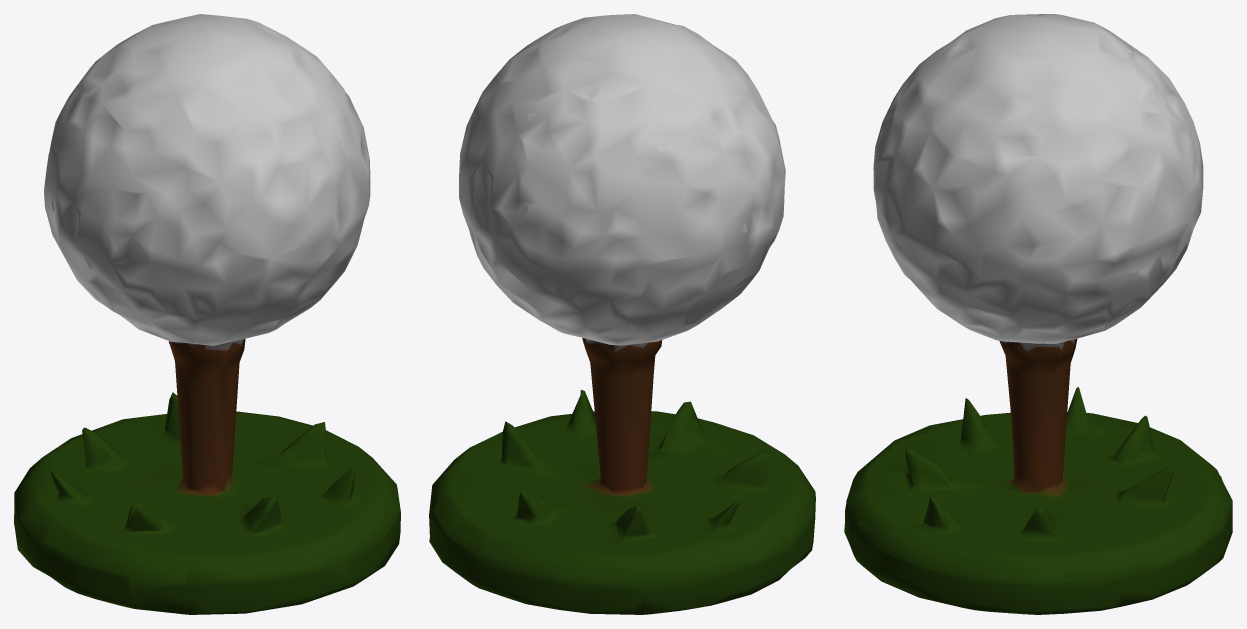
The model's file is gen3d-golf-ball-lod0.glb.
3 views of the same model, side by side, from view 1: azimuth 30°, elevation 25°; view 2: azimuth 150°, elevation 25°; view 3: azimuth 270°, elevation 25° (orthographic).
Visible parts, largest first — view 1: part_0; view 2: part_0; view 3: part_0.
Boxes of the visible parts, bbox=[...] form: part_0: bbox=[14, 14, 400, 614]; part_0: bbox=[429, 14, 815, 614]; part_0: bbox=[844, 14, 1232, 614].
Size of the model in its own units: 0.6967 by 0.9963 by 0.6965.
